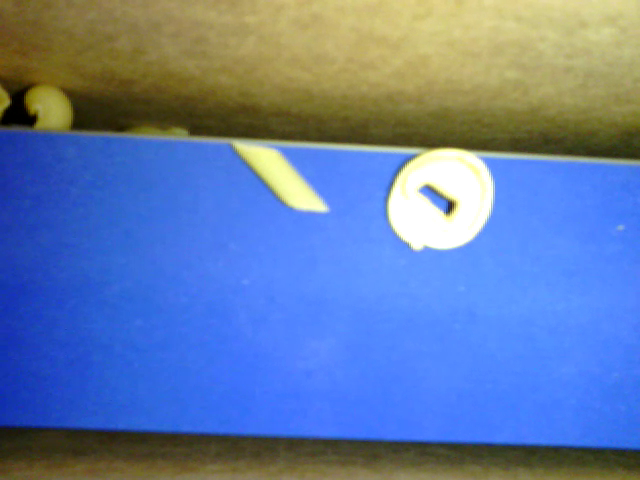penne: (229, 138, 333, 216)
shell: (25, 83, 75, 137)
tortellini: (387, 146, 497, 252)
